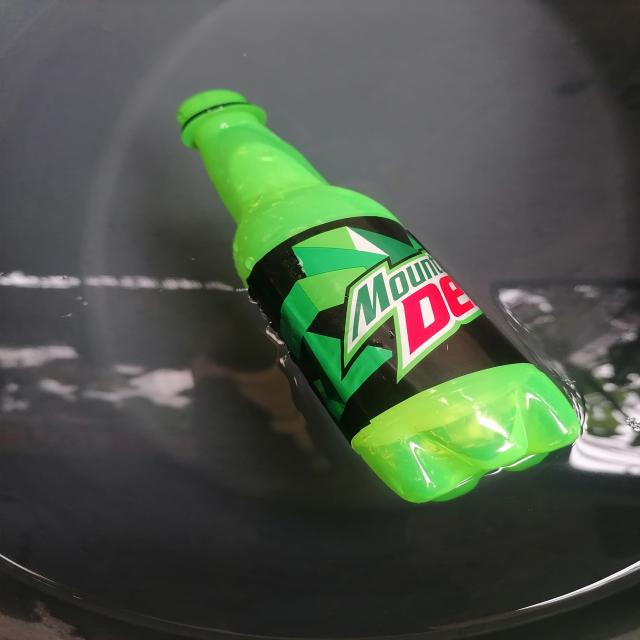Plastic Bottle: (178, 90, 580, 503)
